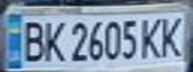0: (103, 17, 124, 62)
2: (66, 18, 90, 63)
5: (121, 16, 142, 61)
6: (87, 18, 106, 63)
B: (15, 18, 48, 63)
K: (157, 12, 190, 59), (136, 15, 169, 60), (39, 17, 69, 63)
